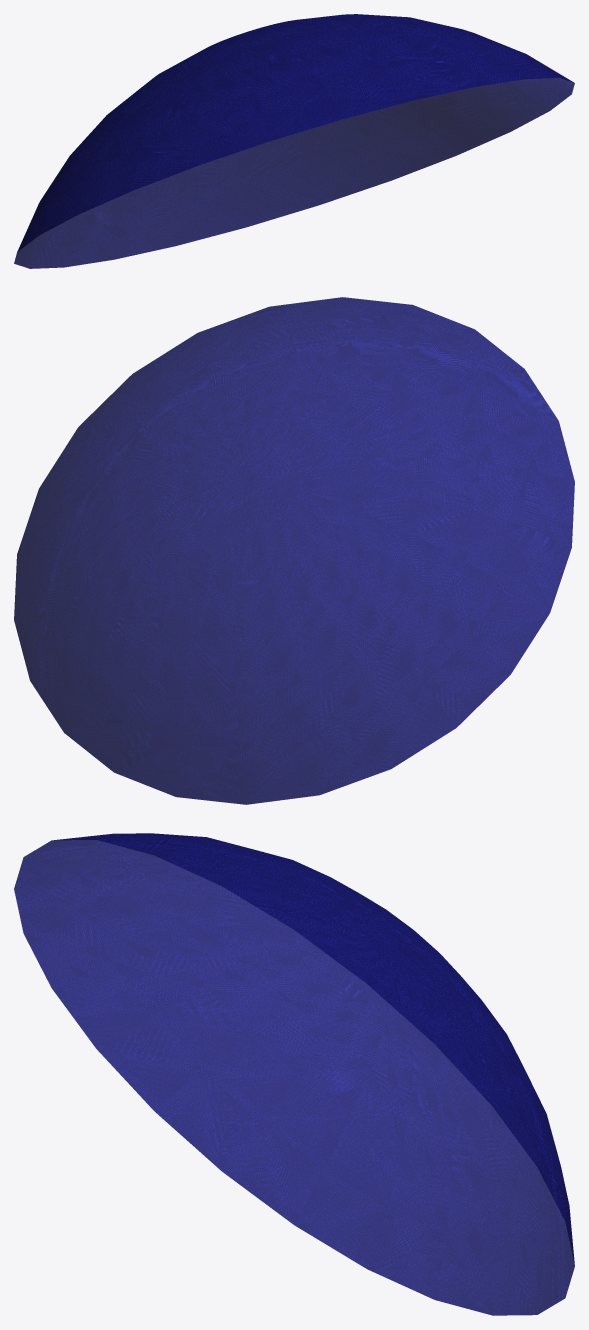
The model's file is original-126.obj.
3 renders of one model, top to bottom at view 1: azimuth 30°, elevation 25°; view 2: azimuth 150°, elevation 25°; view 3: azimuth 270°, elevation 25°, orthographic. The views are drawn at different scales.
Parts seen in each view (by area): view 1: Wooden_Plug11/Wooden_Plug/mesh1/mesh1-geometry#mesh1-geometry; view 2: Wooden_Plug11/Wooden_Plug/mesh1/mesh1-geometry#mesh1-geometry; view 3: Wooden_Plug11/Wooden_Plug/mesh1/mesh1-geometry#mesh1-geometry.
Part boxes in pixels (x1,y1,x2,y2): Wooden_Plug11/Wooden_Plug/mesh1/mesh1-geometry#mesh1-geometry: (14,14,574,268); Wooden_Plug11/Wooden_Plug/mesh1/mesh1-geometry#mesh1-geometry: (14,297,574,804); Wooden_Plug11/Wooden_Plug/mesh1/mesh1-geometry#mesh1-geometry: (14,833,574,1315).
Size of the model in its own units: 0.0221 by 0.0137 by 0.0177.
